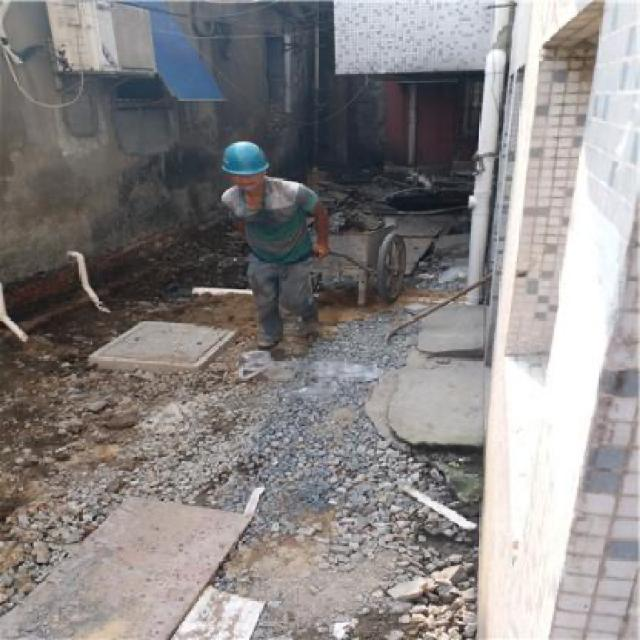con casco: (191, 124, 282, 234)
